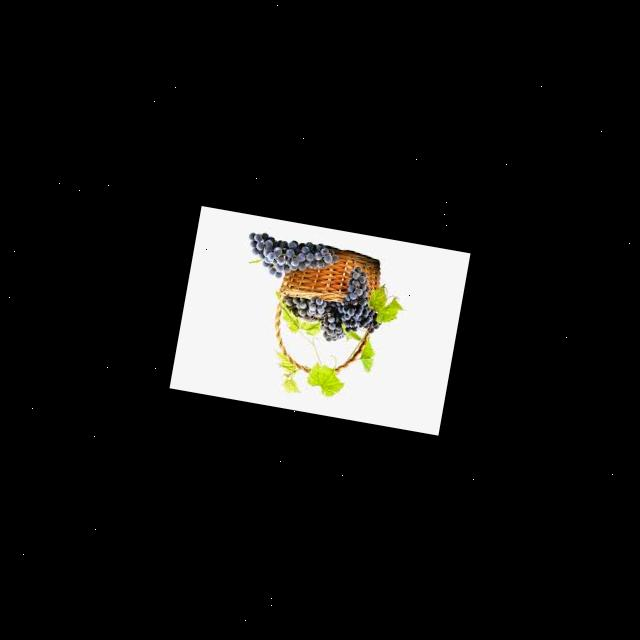grape: (277, 254, 389, 350), (242, 230, 341, 288)
